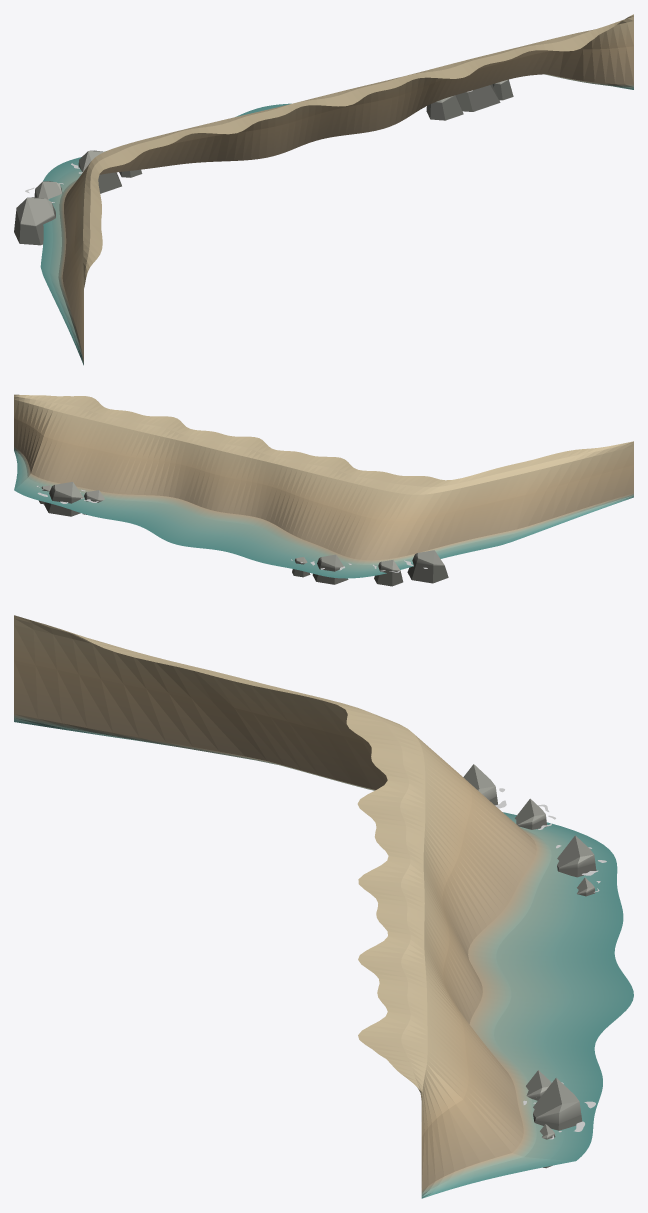
Rendered from ForestCove.fbx.
3 views of the same model, one above another, from view 1: azimuth 30°, elevation 25°; view 2: azimuth 150°, elevation 25°; view 3: azimuth 270°, elevation 25° (orthographic). The views are drawn at different scales.
Parts seen in each view (by area): view 1: SandShelf, Reef0, Reef5, Reef4, Reef2; view 2: SandShelf, Reef0, Reef5, Reef2, Reef1; view 3: SandShelf, Reef5, Reef2.
Boxes of the visible parts, x1=… form: SandShelf: x1=40, y1=14, x2=633, y2=365; Reef0: x1=14, y1=197, x2=55, y2=245; Reef5: x1=456, y1=84, x2=500, y2=111; Reef4: x1=426, y1=95, x2=463, y2=120; Reef2: x1=78, y1=150, x2=121, y2=193; SandShelf: x1=14, y1=394, x2=633, y2=578; Reef0: x1=407, y1=550, x2=448, y2=583; Reef5: x1=44, y1=482, x2=83, y2=516; Reef2: x1=312, y1=554, x2=348, y2=584; Reef1: x1=374, y1=560, x2=403, y2=586; SandShelf: x1=14, y1=615, x2=633, y2=1198; Reef5: x1=533, y1=1078, x2=582, y2=1130; Reef2: x1=557, y1=835, x2=596, y2=877.
Bounding box in the file's own units: 126 × 16 × 69.38.
